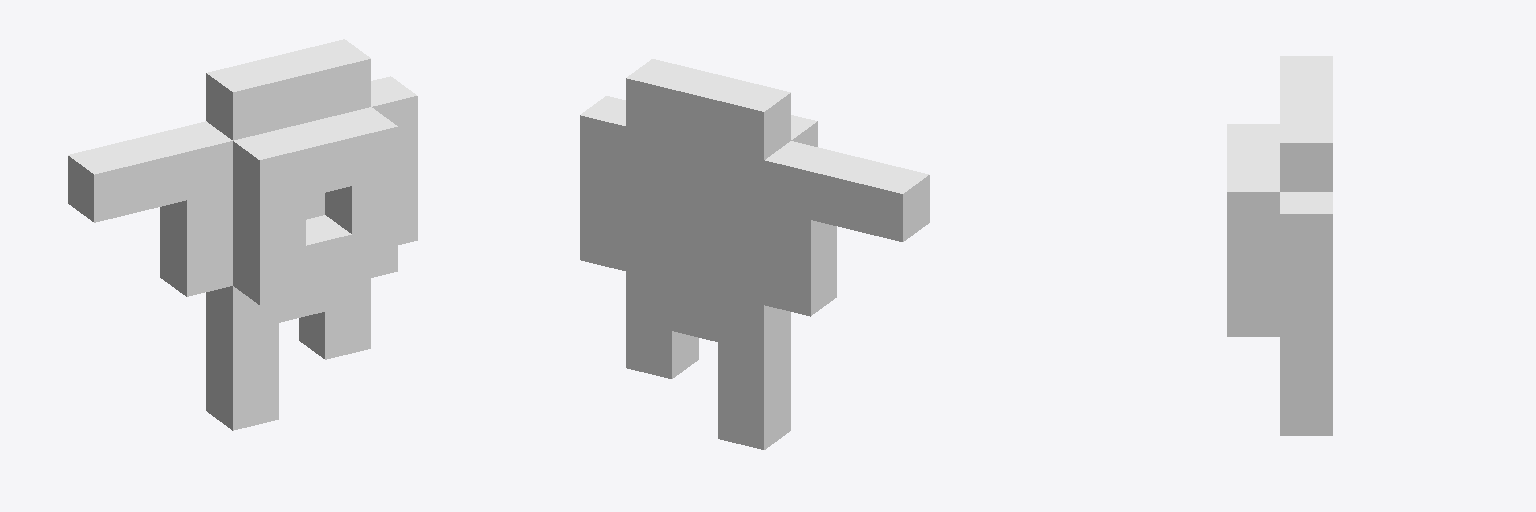
Rendered from Other-14.obj.
The picture shows the model from 3 angles: view 1: azimuth 30°, elevation 25°; view 2: azimuth 150°, elevation 25°; view 3: azimuth 270°, elevation 25°; orthographic projection.
Parts seen in each view (by area): view 1: object 1; view 2: object 1; view 3: object 1.
Part boxes in pixels (left/top/right/bottom): object 1: left=68, top=39, right=417, bottom=430; object 1: left=580, top=59, right=929, bottom=449; object 1: left=1227, top=56, right=1332, bottom=435.
Bounding box in the file's own units: 0.7 × 0.7 × 0.2.